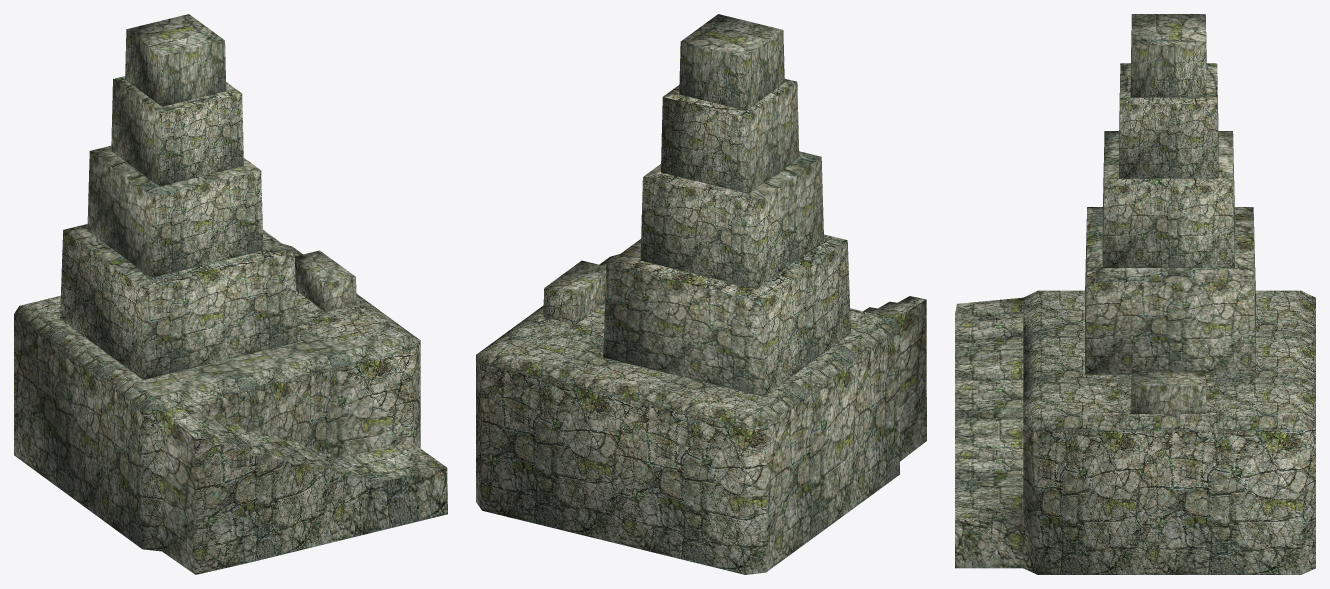
The model's file is thm_nboo_gungan_relic_s01_l1.fbx.
3 renders of one model, left to right at view 1: azimuth 30°, elevation 25°; view 2: azimuth 150°, elevation 25°; view 3: azimuth 270°, elevation 25°, orthographic. The views are drawn at different scales.
Visible parts, largest first — view 1: mesh_node; view 2: mesh_node; view 3: mesh_node.
Boxes of the visible parts, x1,y1,x2,y2 form: mesh_node: [14, 14, 447, 574]; mesh_node: [476, 14, 926, 574]; mesh_node: [955, 14, 1315, 574].
Size of the model in its own units: 14.43 by 22.02 by 15.83.
